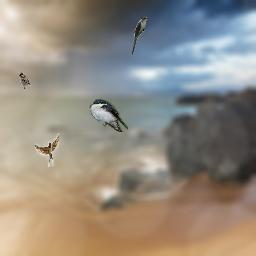Cuckoo: (131, 16, 148, 56)
Sparrow: (19, 72, 31, 89)
Swallow: (89, 98, 128, 132), (35, 133, 59, 167)
